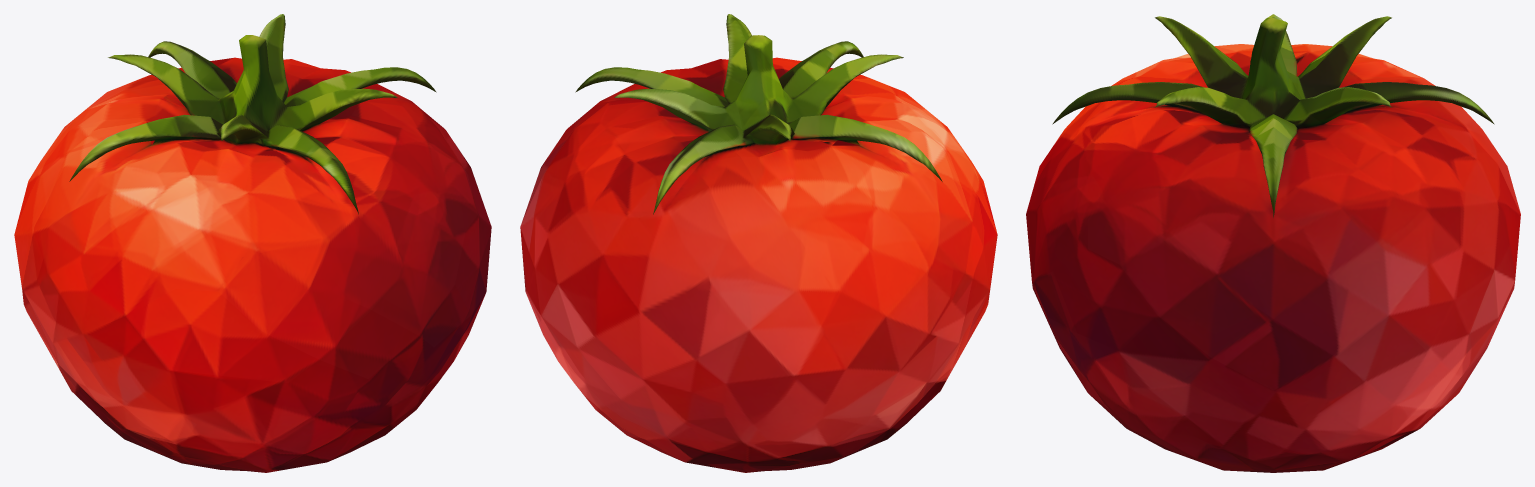
Rendered from base_basic_shaded.fbx.
3 views of the same model, side by side, from view 1: azimuth 30°, elevation 25°; view 2: azimuth 150°, elevation 25°; view 3: azimuth 270°, elevation 25° (orthographic). The views are drawn at different scales.
Parts seen in each view (by area): view 1: model; view 2: model; view 3: model.
Part boxes in pixels (x1,y1,x2,y2): model: [14, 14, 491, 472]; model: [520, 14, 997, 472]; model: [1026, 14, 1520, 472].
Bounding box in the file's own units: 190 × 182 × 190.
